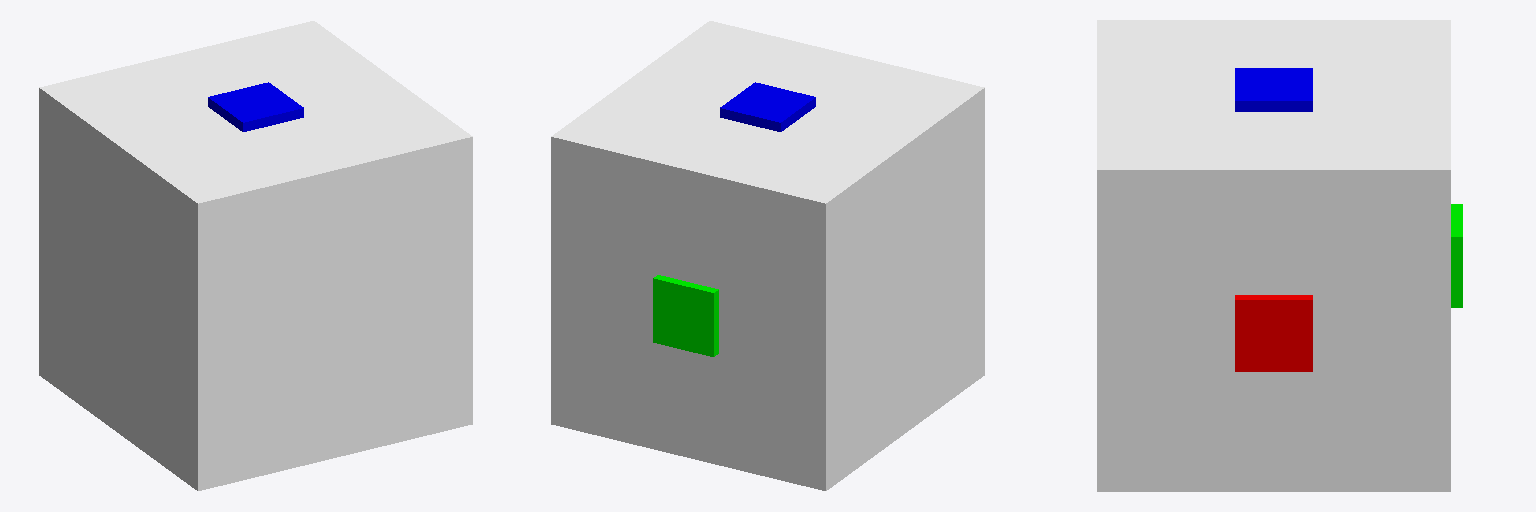
robot.urdf — object:
<?xml version="1.0"?>
<robot name="object">
  <link name="object">
    <visual>
      <origin xyz="0 0 0"/>
      <geometry>
        <box size="0.045 0.045 0.045"/>
      </geometry>
      <material name="object_material">
        <color
            rgba="1.0 1.0 1.0 0.4" />
      </material>
    </visual>

    <visual>
      <origin xyz="0 0 0.0225" />
      <geometry>
          <box size="0.01 0.01 0.003" />
      </geometry>
      <material name="object_marker_material_z">
          <color
              rgba="0.0 0.0 1.0 0.6" />
      </material>
    </visual>

    <visual>
        <origin xyz="0 0.0225 0" rpy="1.5808 0.0 0.0" />
        <geometry>
            <box size="0.01 0.01 0.003" />
        </geometry>
        <material name="object_marker_material_y">
            <color
                rgba="0.0 1.0 0.0 0.6" />
        </material>
    </visual>

    <visual>
        <origin xyz="0.0225 0 0" rpy="0.0 1.5808 0.0" />
        <geometry>
            <box size="0.01 0.01 0.003" />
        </geometry>
        <material name="object_marker_material_x">
            <color
                rgba="1.0 0.0 0.0 0.6" />
        </material>
    </visual>

    <collision>
      <origin xyz="0 0 0"/>
      <geometry>
        <box size="0.045 0.045 0.045"/>
      </geometry>
    </collision>

    <inertial>
      <mass value="0.05" />
      <inertia ixx="0.0001" ixy="0.0" ixz="0.0" iyy="0.0001" iyz="0.0" izz="0.0001"/>
    </inertial>
  </link>
</robot>

--- Render facts (derived) ---
Views: 3 orthographic renders of the robot side by side, from view 1: azimuth 30°, elevation 25°; view 2: azimuth 150°, elevation 25°; view 3: azimuth 270°, elevation 25°.
Robot: object — 1 links, 0 joints (none); root link object; default pose: every joint at zero.
Visible links, largest first — view 1: object; view 2: object; view 3: object.
Boxes of the visible links, <box> form: object: <box>39,21,472,490</box>; object: <box>551,21,984,490</box>; object: <box>1097,20,1462,491</box>.
Size in the robot's own frame: 0.0465 by 0.0465 by 0.0465 metres.
Geometry: primitives only (box / cylinder / sphere), no mesh files.
